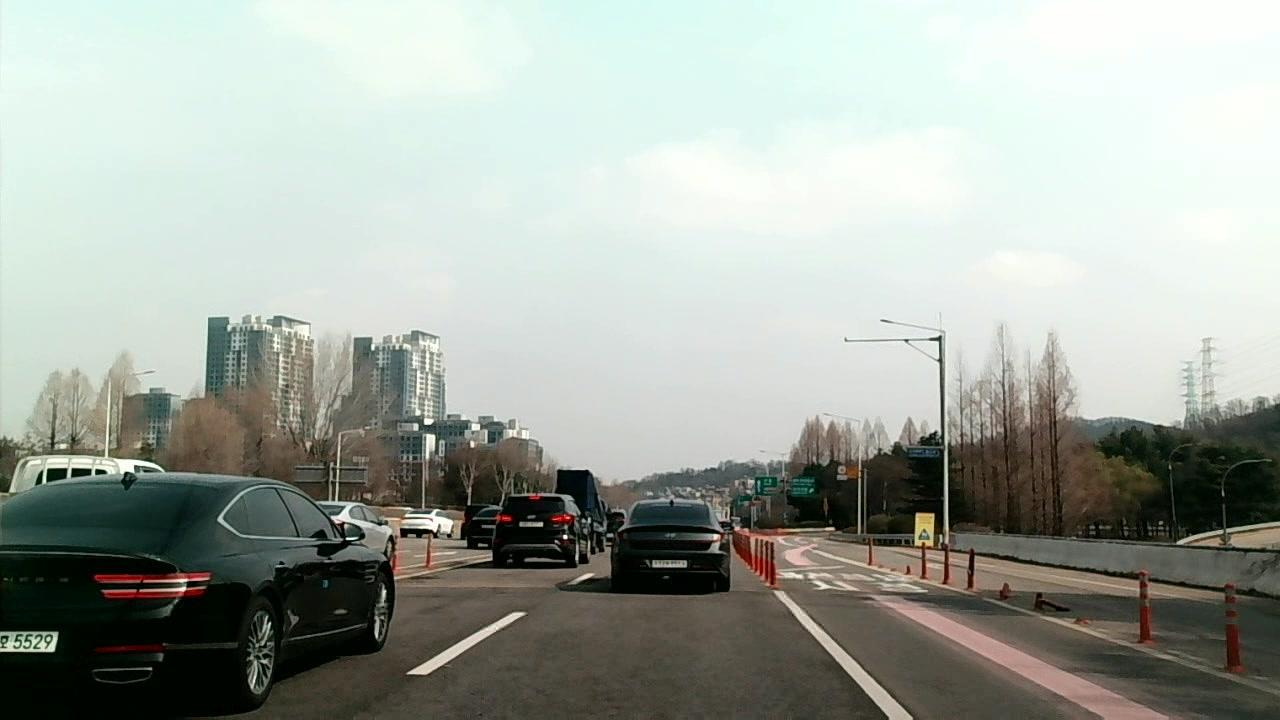banner: (1024, 588, 1070, 616), (994, 578, 1018, 604)
